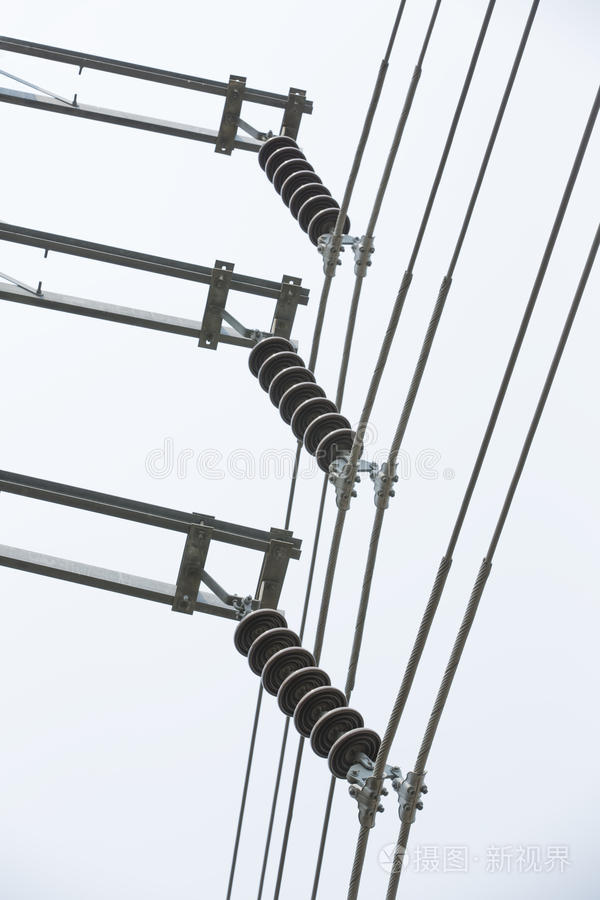insulator: (229, 608, 375, 780), (245, 331, 353, 468), (252, 129, 351, 246)
